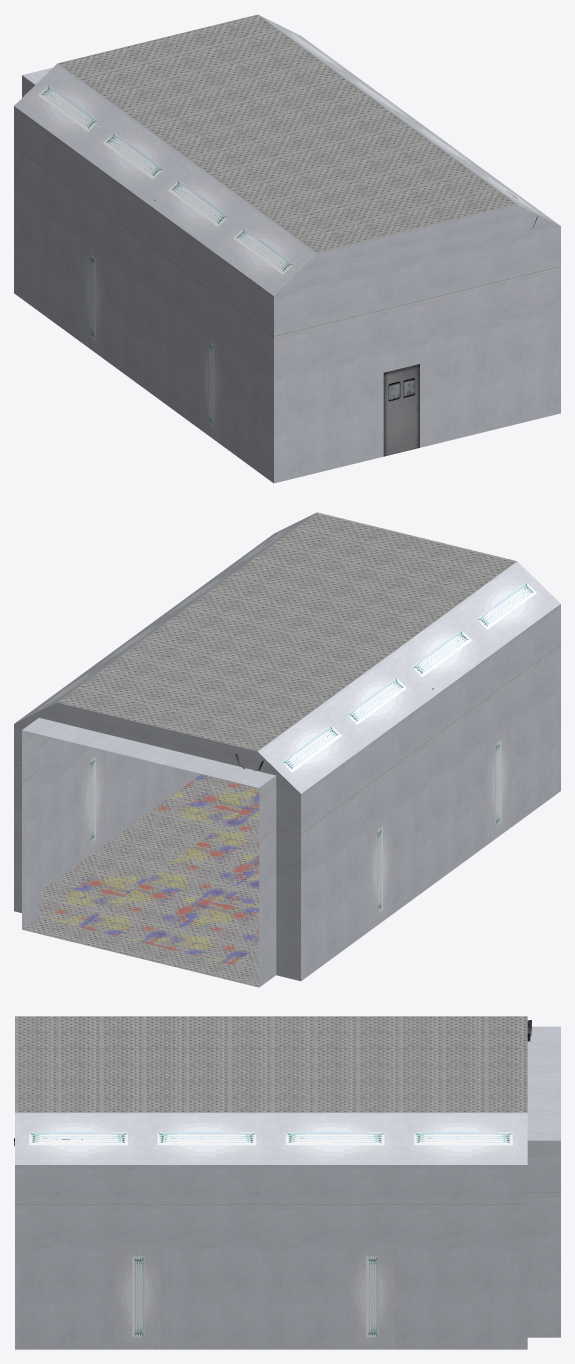
The model's file is des_payspint.obj.
The picture shows the model from 3 angles, top to bottom: view 1: azimuth 30°, elevation 25°; view 2: azimuth 150°, elevation 25°; view 3: azimuth 270°, elevation 25°; orthographic projection.
Visible parts, largest first — view 1: des_payspint; view 2: des_payspint; view 3: des_payspint.
Part boxes in pixels (x1,y1,x2,y2): des_payspint: [14, 14, 560, 483]; des_payspint: [14, 512, 560, 987]; des_payspint: [14, 1016, 560, 1349].
Size of the model in its own units: 8.76 by 6.42 by 14.65.
Materials: 14 (14 with a texture image).
